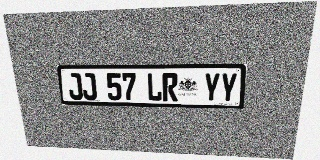5: (106, 73, 122, 101)
7: (121, 73, 137, 101)
J: (67, 73, 83, 100), (81, 73, 97, 100)
L: (147, 73, 162, 101)
R: (162, 73, 178, 102)
Y: (219, 73, 238, 103), (203, 73, 220, 102)
